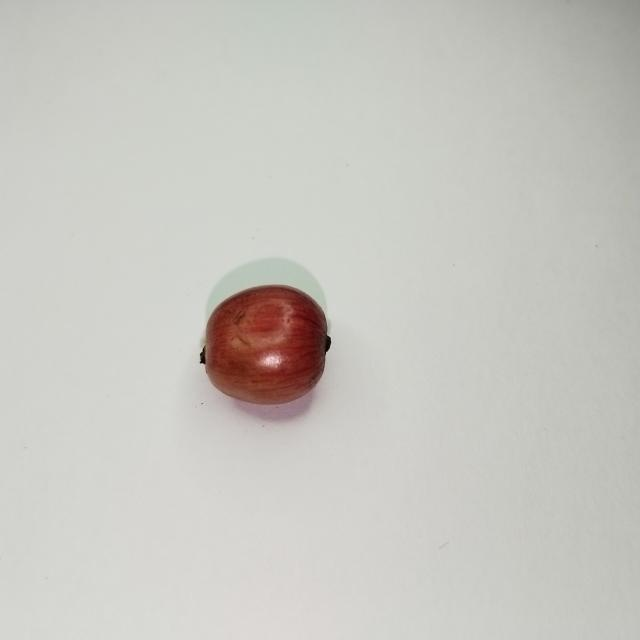Sano: (204, 284, 329, 404)
